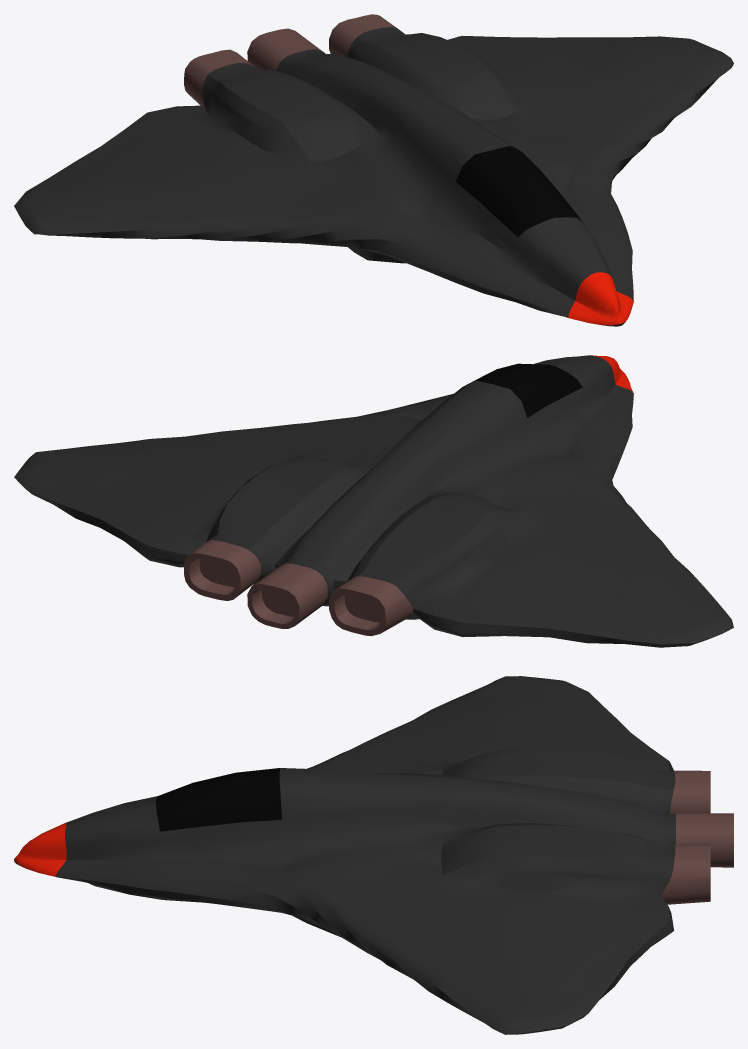
The model's file is NightPhantom.fbx.
The picture shows the model from 3 angles, top to bottom: view 1: azimuth 30°, elevation 25°; view 2: azimuth 150°, elevation 25°; view 3: azimuth 270°, elevation 25°; orthographic projection. The views are drawn at different scales.
Parts seen in each view (by area): view 1: Retopo_Mesh1.0; view 2: Retopo_Mesh1.0; view 3: Retopo_Mesh1.0.
Part boxes in pixels (bbox=[...]): Retopo_Mesh1.0: bbox=[14, 14, 733, 326]; Retopo_Mesh1.0: bbox=[14, 355, 733, 647]; Retopo_Mesh1.0: bbox=[14, 676, 733, 1034].
Size of the model in its own units: 325 by 56.85 by 280.
